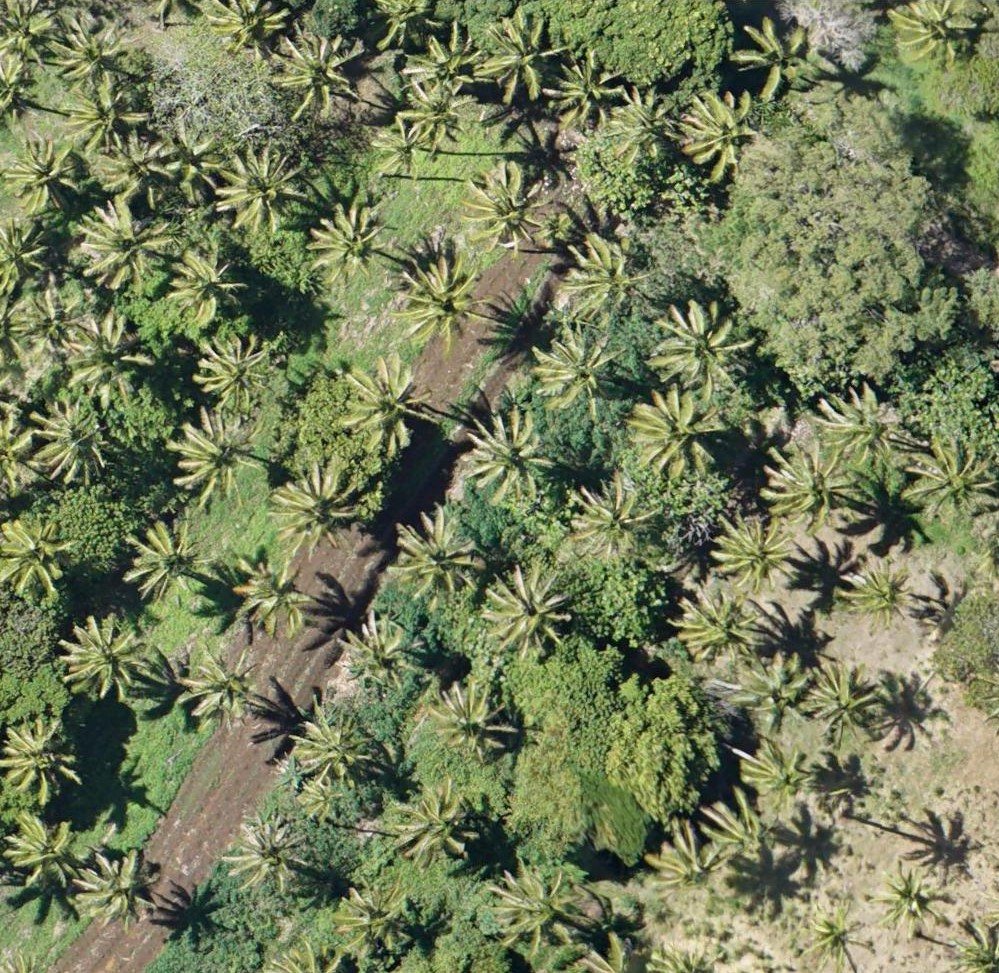Palm: (649, 297, 751, 397), (492, 860, 586, 963), (339, 354, 431, 455), (629, 384, 723, 479), (389, 507, 484, 600), (78, 201, 173, 293), (163, 409, 258, 500), (270, 460, 365, 548), (906, 429, 998, 519), (467, 409, 555, 502), (565, 477, 659, 563), (526, 330, 616, 419), (44, 15, 137, 101), (484, 565, 569, 659), (766, 439, 856, 527), (62, 615, 155, 700), (461, 162, 545, 255), (812, 381, 900, 469), (119, 523, 210, 606), (478, 13, 561, 104), (561, 231, 648, 317), (648, 817, 733, 903), (68, 306, 151, 394), (32, 399, 112, 489), (681, 90, 759, 182), (215, 149, 301, 232), (430, 676, 515, 758), (282, 29, 361, 117), (731, 648, 814, 730), (394, 783, 477, 865), (732, 737, 818, 816), (398, 257, 476, 344), (670, 586, 761, 660), (697, 788, 785, 864), (1, 508, 72, 602), (179, 645, 261, 726), (230, 552, 309, 635), (4, 719, 81, 803), (74, 852, 159, 928), (888, 1, 977, 73), (335, 612, 415, 692), (169, 241, 244, 326), (734, 18, 814, 97), (307, 204, 385, 283), (405, 18, 478, 102), (292, 707, 370, 785), (3, 813, 80, 892), (331, 878, 413, 952), (812, 659, 882, 745), (716, 509, 791, 588), (199, 331, 278, 406), (11, 284, 86, 360), (550, 51, 623, 129), (799, 900, 878, 972), (837, 560, 916, 631), (62, 82, 147, 147), (878, 865, 951, 940), (157, 117, 220, 203), (7, 135, 76, 212), (611, 79, 676, 159), (95, 128, 168, 199), (230, 826, 307, 891), (399, 75, 470, 144), (211, 1, 283, 63), (366, 118, 427, 178), (294, 773, 345, 823)
